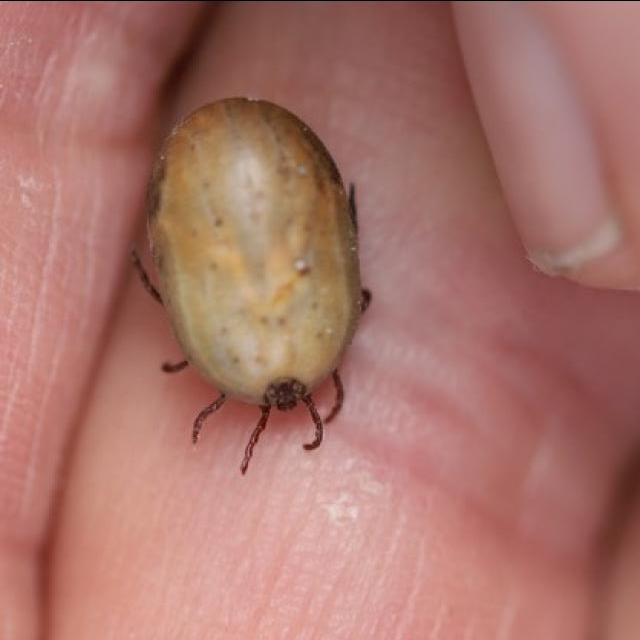Dermacentor Reticulatus-F-Fed: (132, 96, 367, 473)
